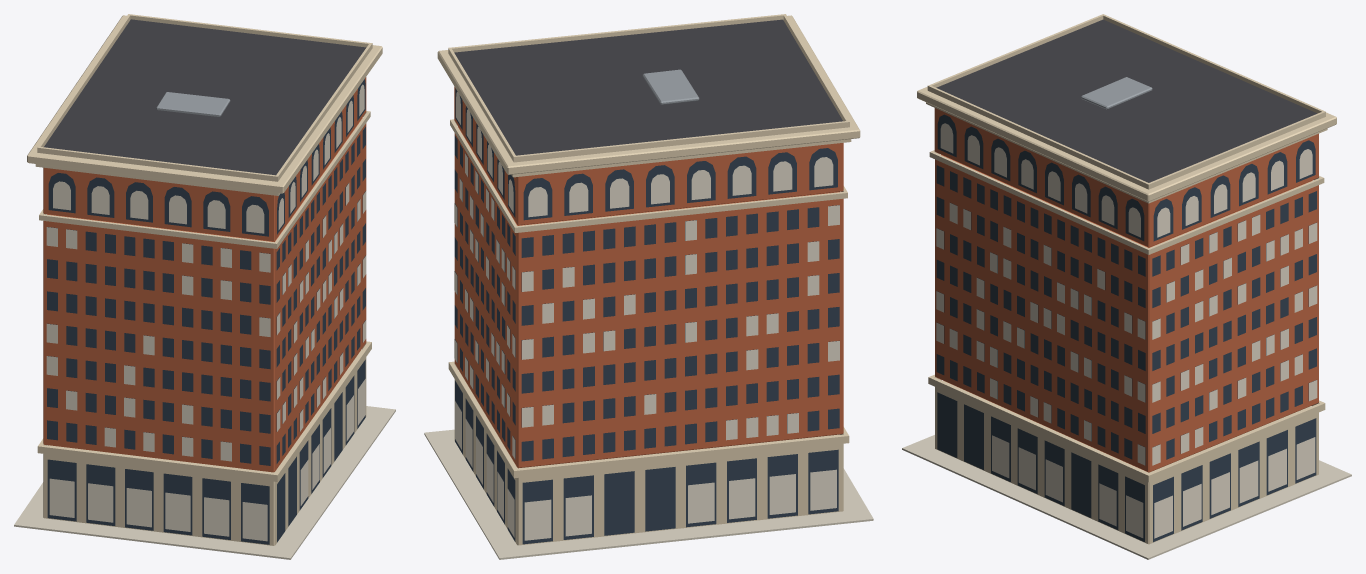
File: 706-mission-street.glb
The picture shows the model from 3 angles, left to right: view 1: azimuth 30°, elevation 25°; view 2: azimuth 150°, elevation 25°; view 3: azimuth 270°, elevation 25°; orthographic projection. The views are drawn at different scales.
Parts seen in each view (by area): view 1: 706-mission-street_body, 706-mission-street_night_glow; view 2: 706-mission-street_body, 706-mission-street_night_glow; view 3: 706-mission-street_body, 706-mission-street_night_glow.
Part boxes in pixels (<box>): 706-mission-street_body: <box>14,14,395,559</box>; 706-mission-street_night_glow: <box>46,84,366,541</box>; 706-mission-street_body: <box>424,14,873,559</box>; 706-mission-street_night_glow: <box>454,92,839,540</box>; 706-mission-street_body: <box>902,14,1351,559</box>; 706-mission-street_night_glow: <box>936,123,1317,538</box>.
Bounding box in the file's own units: 49.9 × 44 × 49.24.
